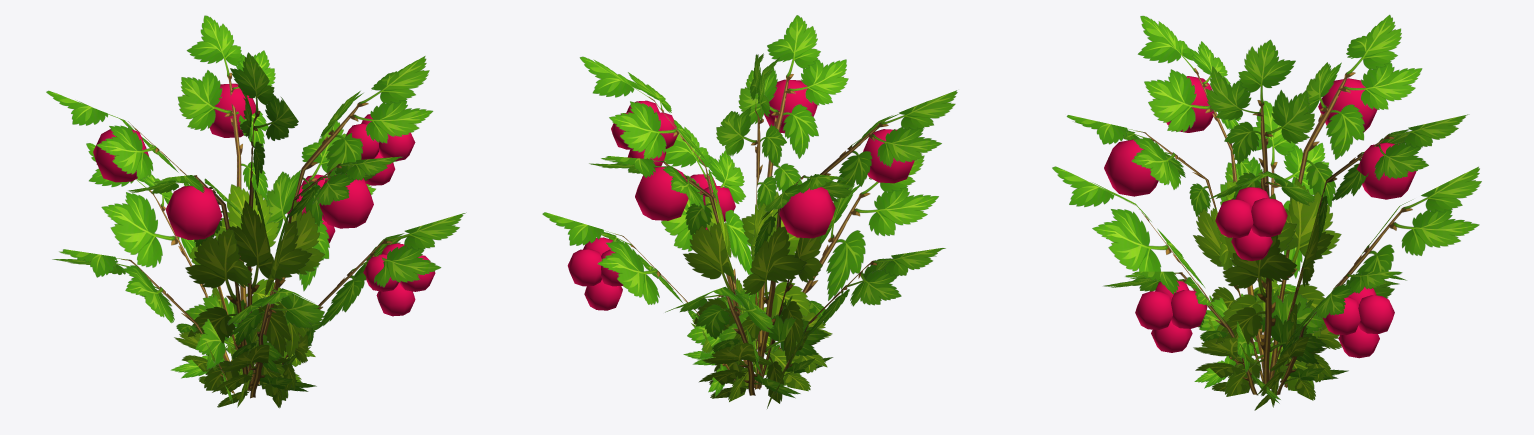
Rendered from berries.glb.
3 views of the same model, side by side, from view 1: azimuth 30°, elevation 25°; view 2: azimuth 150°, elevation 25°; view 3: azimuth 270°, elevation 25° (orthographic). The views are drawn at different scales.
Visible parts, largest first — view 1: Branch.001, Branch, Branch.010, Branch.004, Branch.009, Branch.008, Branch.006, Branch.003, Branch.002, Branch.007, Branch.005, Berry.003 (+8 smaller); view 2: Branch.003, Branch.004, Branch.008, Branch.002, Branch, Branch.001, Branch.006, Branch.009, Branch.010, Branch.005, Branch.007, Berry.004 (+7 smaller); view 3: Branch.002, Branch.010, Branch.004, Branch, Branch.006, Branch.001, Branch.003, Branch.008, Branch.005, Branch.009, Branch.007, Berry.002 (+12 smaller).
Boxes of the visible parts, x1,y1,x2,y2 form: Branch.001: (177, 15, 281, 372); Branch: (264, 56, 433, 399); Branch.010: (230, 52, 298, 400); Branch.004: (128, 175, 281, 390); Branch.009: (272, 212, 466, 408); Branch.008: (212, 288, 324, 407); Branch.006: (86, 143, 242, 378); Branch.003: (237, 156, 402, 407); Branch.002: (46, 90, 248, 390); Branch.007: (52, 249, 234, 402); Branch.005: (225, 121, 375, 383); Berry.003: (165, 186, 222, 239); Branch.003: (714, 15, 848, 387); Branch.004: (758, 90, 957, 403); Branch.008: (765, 155, 938, 391); Branch.002: (728, 174, 852, 401); Branch: (579, 56, 756, 387); Branch.001: (589, 156, 762, 388); Branch.006: (665, 286, 800, 398); Branch.009: (661, 126, 770, 375); Branch.010: (716, 53, 786, 373); Branch.005: (542, 212, 735, 396); Branch.007: (767, 248, 945, 408); Berry.004: (779, 187, 835, 238); Branch.002: (1253, 14, 1422, 391); Branch.010: (1206, 39, 1324, 393); Branch.004: (1137, 15, 1282, 378); Branch: (1208, 171, 1326, 396); Branch.006: (1284, 166, 1481, 400); Branch.001: (1270, 114, 1469, 407); Branch.003: (1066, 115, 1263, 382); Branch.008: (1052, 166, 1239, 388); Branch.005: (1254, 271, 1406, 410); Branch.009: (1103, 271, 1280, 403); Branch.007: (1220, 100, 1328, 373); Berry.002: (1104, 139, 1158, 196).
Size of the model in its own units: 1.58 by 1.27 by 1.65.
2 materials, 1 textured.
